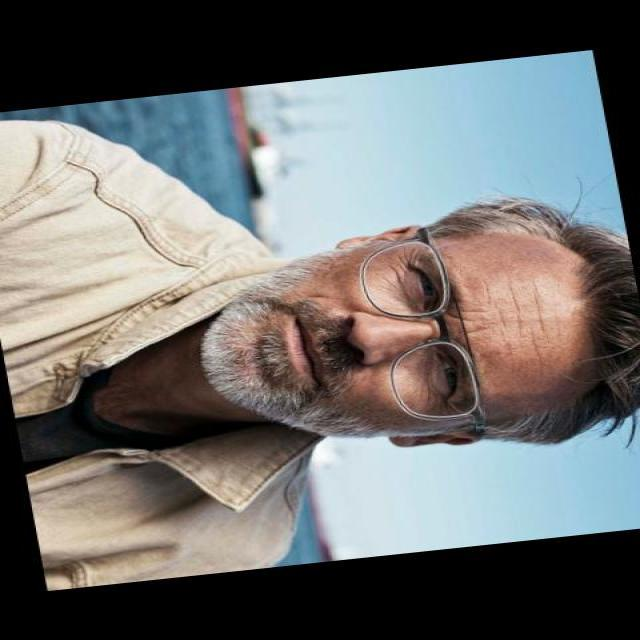glasses: (354, 234, 490, 431)
